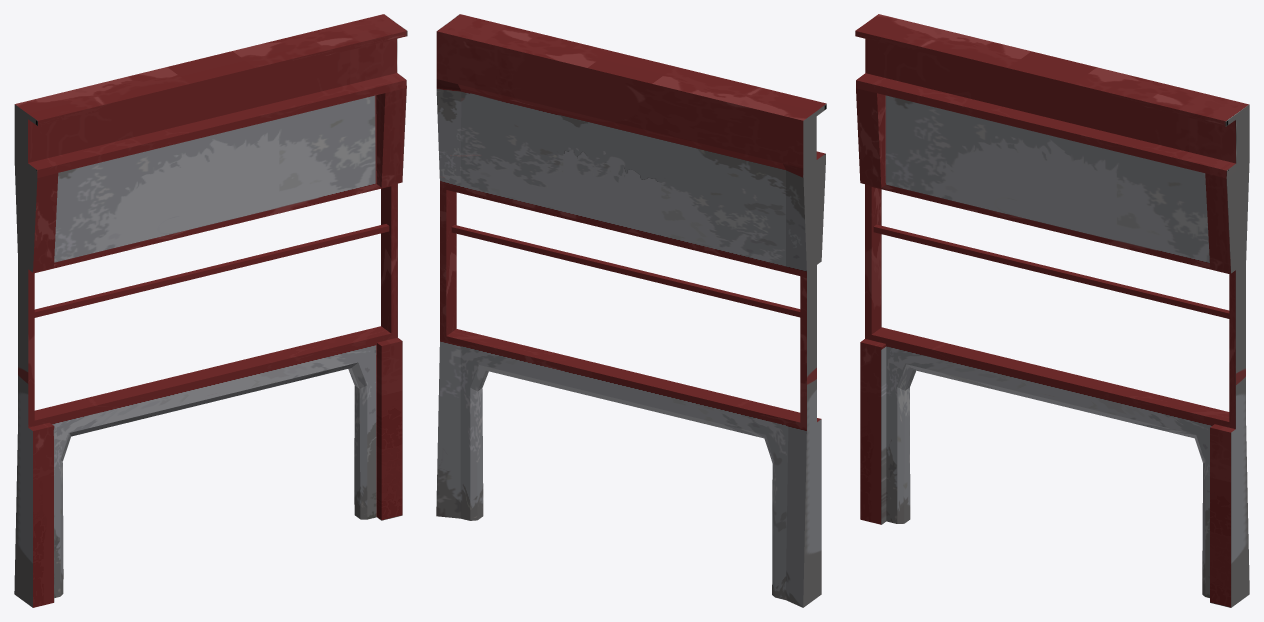
File: wall_garage.fbx
The picture shows the model from 3 angles, left to right: view 1: azimuth 30°, elevation 25°; view 2: azimuth 150°, elevation 25°; view 3: azimuth 330°, elevation 25°; orthographic projection.
Parts seen in each view (by area): view 1: pCube382; view 2: pCube382; view 3: pCube382.
Part boxes in pixels (x1,y1,x2,y2): pCube382: [14, 14, 407, 607]; pCube382: [436, 14, 826, 607]; pCube382: [855, 14, 1249, 607].
Bounding box in the file's own units: 897 × 1138 × 99.36.
1 material, 1 textured.
